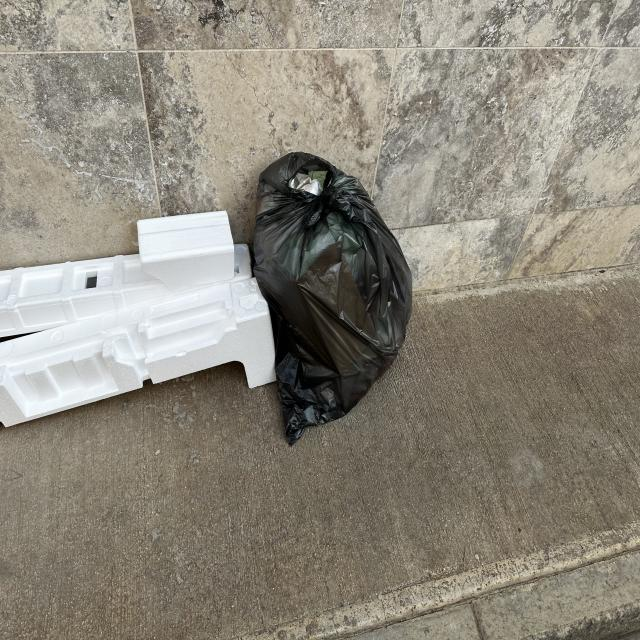Mixed Waste -Black Bags-: (254, 152, 413, 445)
Others Waste: (0, 209, 277, 428)
